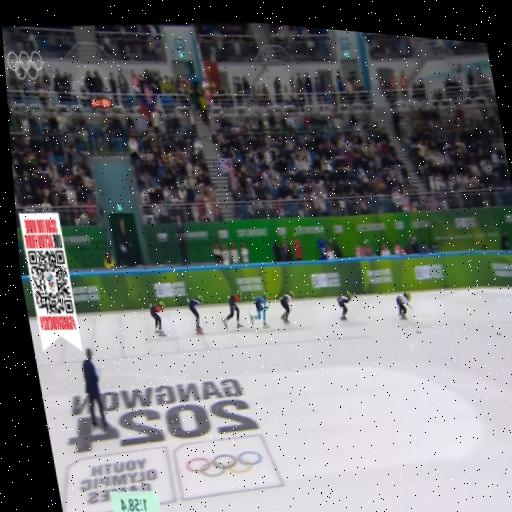Skater: (222, 290, 242, 328), (250, 292, 268, 328), (186, 296, 202, 334), (149, 301, 164, 336), (279, 291, 294, 323), (336, 292, 351, 320), (396, 292, 410, 319)
